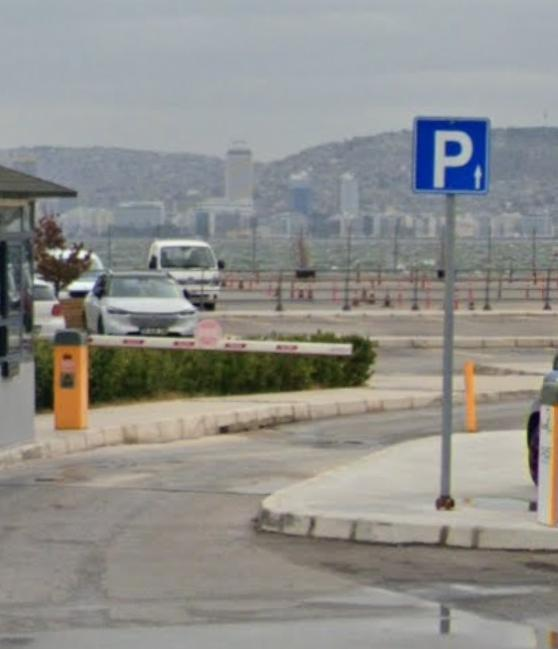park: (414, 117, 487, 194)
